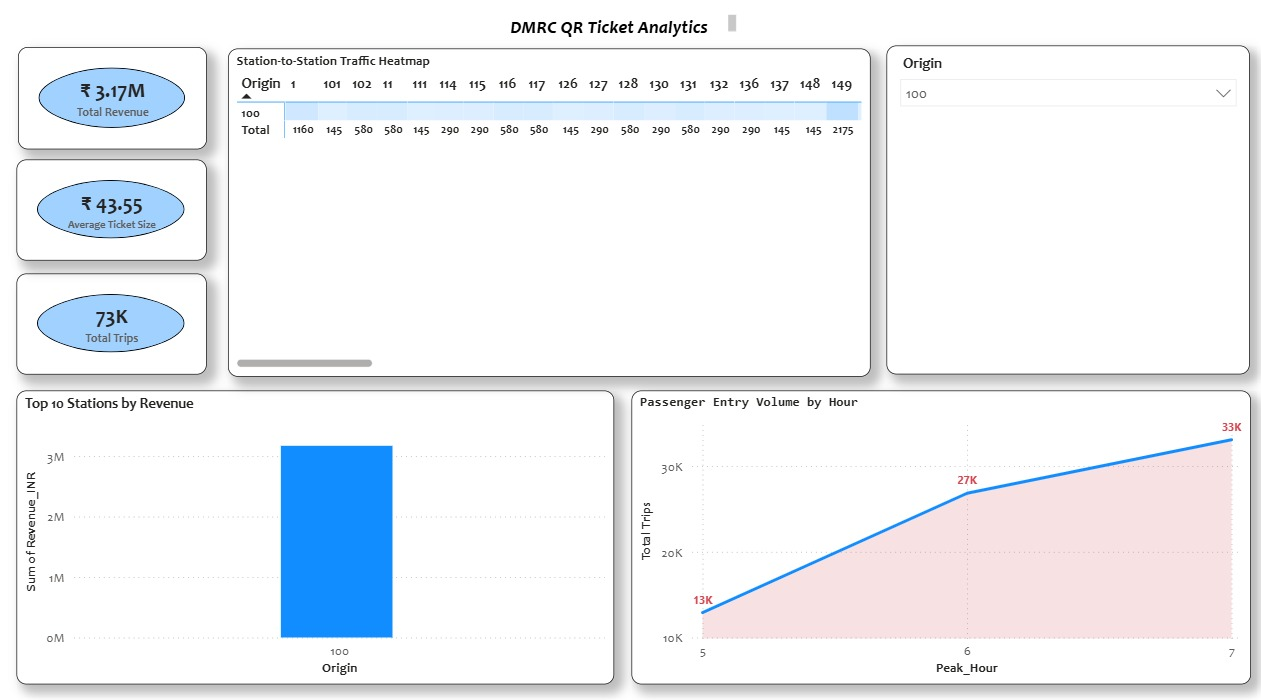

This screenshot's page, from the dashboard's own definition file:
{"tool":"powerbi","page":{"name":"Page 1","canvas":[1280,720],"ordinal":0},"visuals":[{"type":"cardVisual","fields":{"Data":["dmrc_qr powerbi_qr_entry_data.Total Revenue"]},"box":[20.9,58.2,190.9,103.6],"z":0},{"type":"cardVisual","fields":{"Data":["dmrc_qr powerbi_qr_entry_data.Total Trips"]},"box":[20,286.7,191.7,101.7],"z":1000},{"type":"cardVisual","fields":{"Data":["dmrc_qr powerbi_qr_entry_data.Average Ticket Size"]},"box":[20,171.7,191.7,101.7],"z":2000},{"type":"clusteredColumnChart","title":"Top 10 Stations by Revenue","fields":{"Category":["dmrc_qr powerbi_qr_entry_data.Origin"],"Y":["Sum(dmrc_qr powerbi_qr_entry_data.Revenue_INR)"]},"box":[20,405,603.3,296.7],"z":3000},{"type":"pivotTable","title":"Station-to-Station Traffic Heatmap","fields":{"Rows":["dmrc_qr powerbi_qr_entry_data.Origin"],"Columns":["dmrc_qr powerbi_qr_entry_data.Destination"],"Values":["dmrc_qr powerbi_qr_entry_data.Total Trips"]},"box":[232.9,58.6,648.6,331.4],"z":4000},{"type":"lineChart","title":"Passenger Entry Volume by Hour ","fields":{"Category":["dmrc_qr powerbi_qr_entry_data.Peak_Hour"],"Y":["dmrc_qr powerbi_qr_entry_data.Total Trips"]},"box":[640,405,625,296.7],"z":5000},{"type":"textbox","box":[492.1,19.7,258.9,36.3],"z":6000},{"type":"slicer","fields":{"Values":["dmrc_qr powerbi_qr_entry_data.Origin"]},"box":[898.3,56.7,366.7,331.7],"z":7000}]}

Visuals, with their boxes in screenshot pixels (x1, y1, x2, y2), scaled from the page's 1280x720 canvas onto the 1261x700 screenshot:
cardVisual - dmrc_qr powerbi_qr_entry_data.Total Revenue: (x1=21, y1=57, x2=209, y2=157)
cardVisual - dmrc_qr powerbi_qr_entry_data.Total Trips: (x1=20, y1=279, x2=209, y2=378)
cardVisual - dmrc_qr powerbi_qr_entry_data.Average Ticket Size: (x1=20, y1=167, x2=209, y2=266)
"Top 10 Stations by Revenue" clusteredColumnChart: (x1=20, y1=394, x2=614, y2=682)
"Station-to-Station Traffic Heatmap" pivotTable: (x1=229, y1=57, x2=868, y2=379)
"Passenger Entry Volume by Hour " lineChart: (x1=630, y1=394, x2=1246, y2=682)
textbox: (x1=485, y1=19, x2=740, y2=54)
slicer - dmrc_qr powerbi_qr_entry_data.Origin: (x1=885, y1=55, x2=1246, y2=378)
